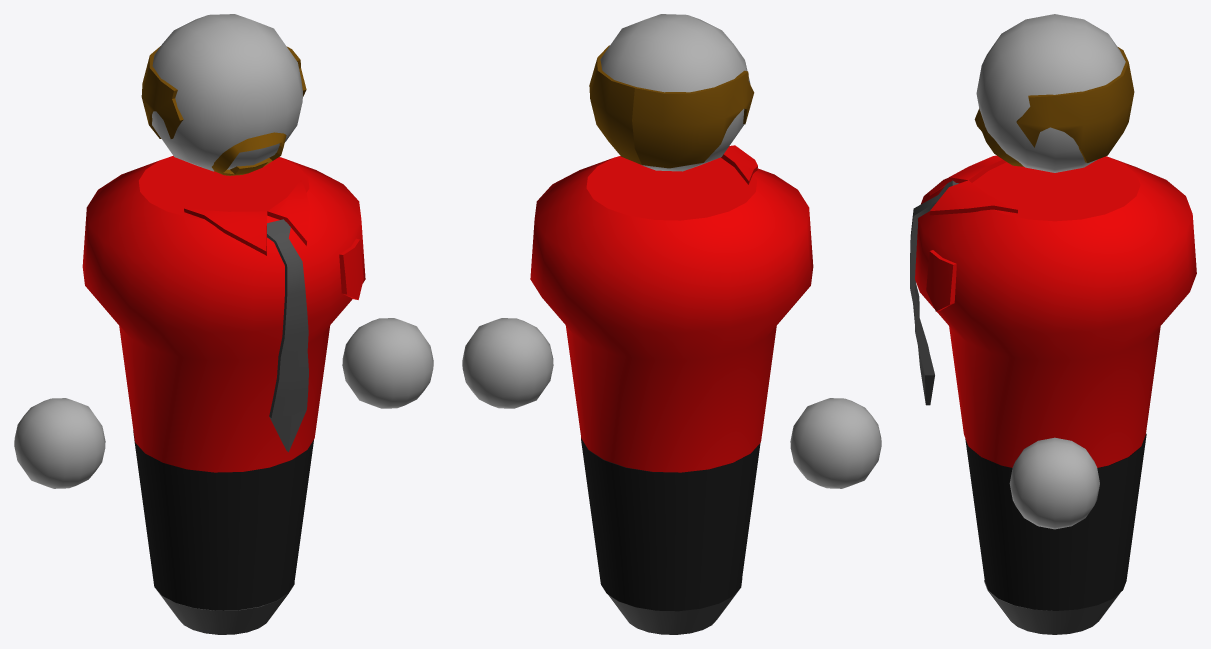
The model's file is manager man.fbx.
3 renders of one model, left to right at view 1: azimuth 30°, elevation 25°; view 2: azimuth 150°, elevation 25°; view 3: azimuth 270°, elevation 25°, orthographic.
Visible parts, largest first — view 1: pCube10; view 2: pCube10; view 3: pCube10.
Part boxes in pixels (bbox=[...]): pCube10: bbox=[14, 14, 433, 634]; pCube10: bbox=[462, 14, 881, 634]; pCube10: bbox=[910, 14, 1196, 634].
Size of the model in its own units: 3.63 by 5.06 by 2.22.
